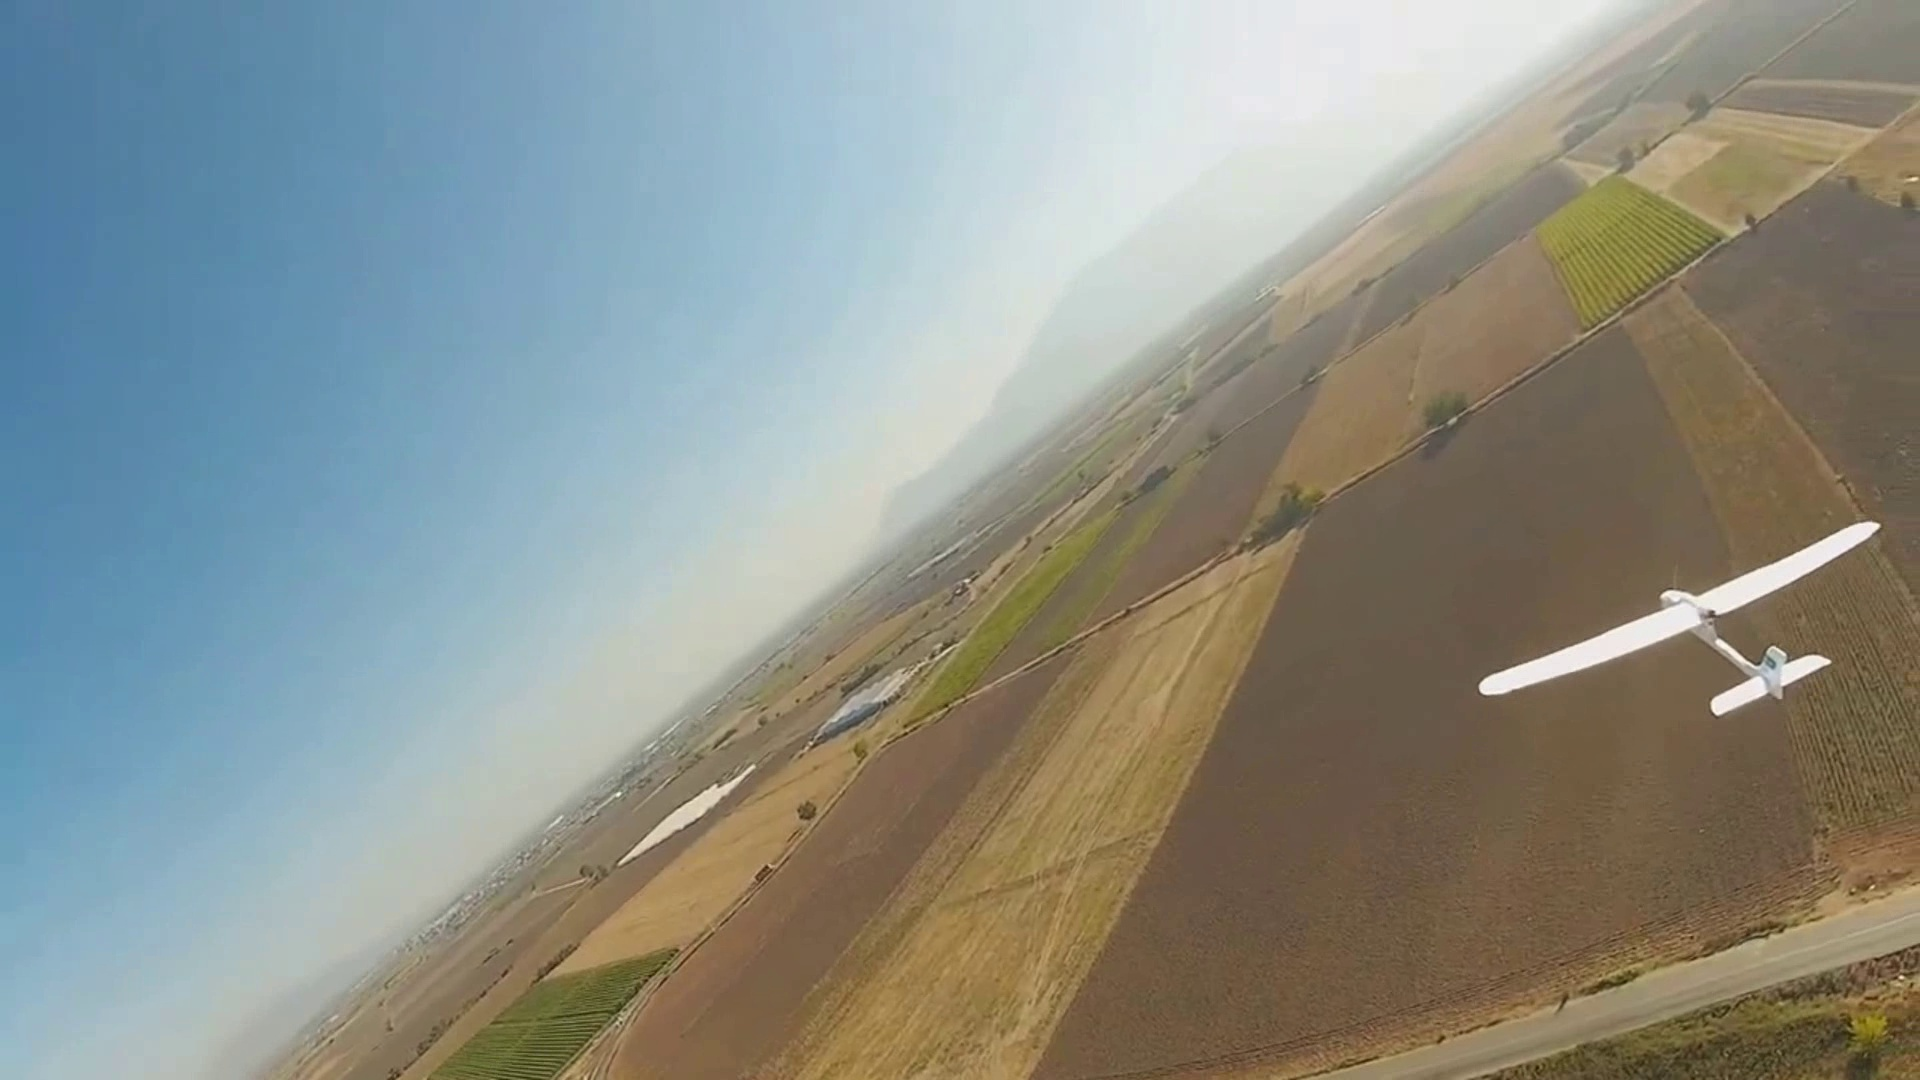airplane: (144, 0, 1918, 1063)
